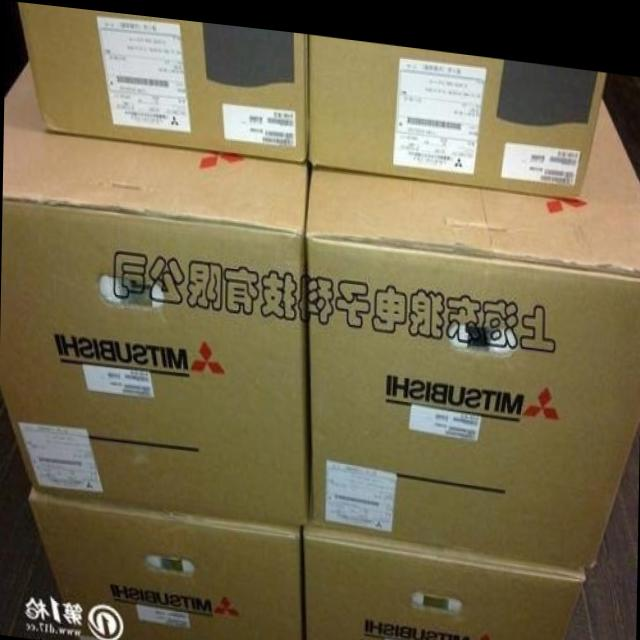box: (309, 82, 640, 554), (0, 59, 307, 516), (305, 29, 606, 186), (18, 2, 306, 154), (28, 490, 302, 640), (302, 517, 586, 640)
